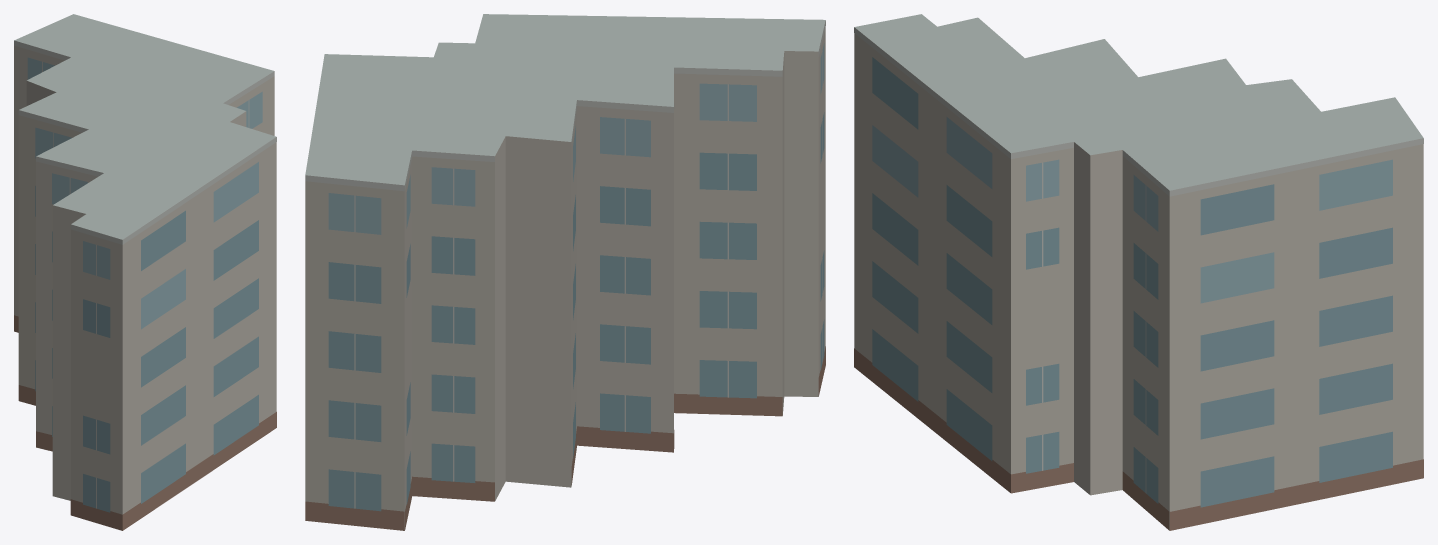
The model's file is survey-upis-33014848.glb.
3 views of the same model, side by side, from view 1: azimuth 30°, elevation 25°; view 2: azimuth 150°, elevation 25°; view 3: azimuth 270°, elevation 25° (orthographic). The views are drawn at different scales.
Parts seen in each view (by area): view 1: survey-upis-33014848.tmp; view 2: survey-upis-33014848.tmp; view 3: survey-upis-33014848.tmp.
Part boxes in pixels (<box>): survey-upis-33014848.tmp: <box>14,14,276,530</box>; survey-upis-33014848.tmp: <box>305,14,825,530</box>; survey-upis-33014848.tmp: <box>854,14,1423,530</box>.
Bounding box in the file's own units: 15.67 × 14.05 × 21.33.
